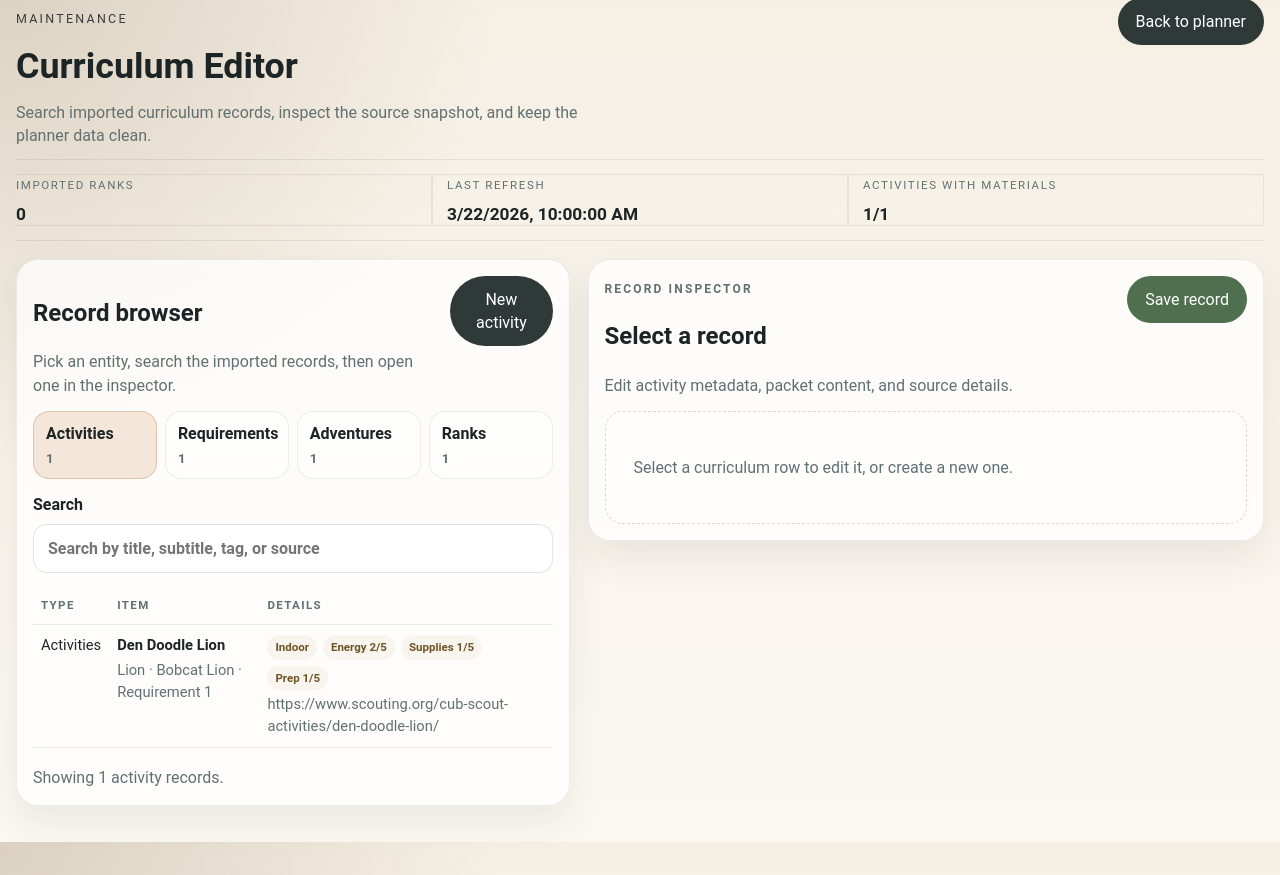
Test: AdminConfig › loads the hidden admin curriculum editor and saves an activity
Expected: the heading "Curriculum Editor" is shown, [16,45,298,87]
Expected: the heading "Record browser" is shown, [33,299,203,327]
Click the button "New activity" at (501, 311), box [450,276,552,346]
(page scrolled)
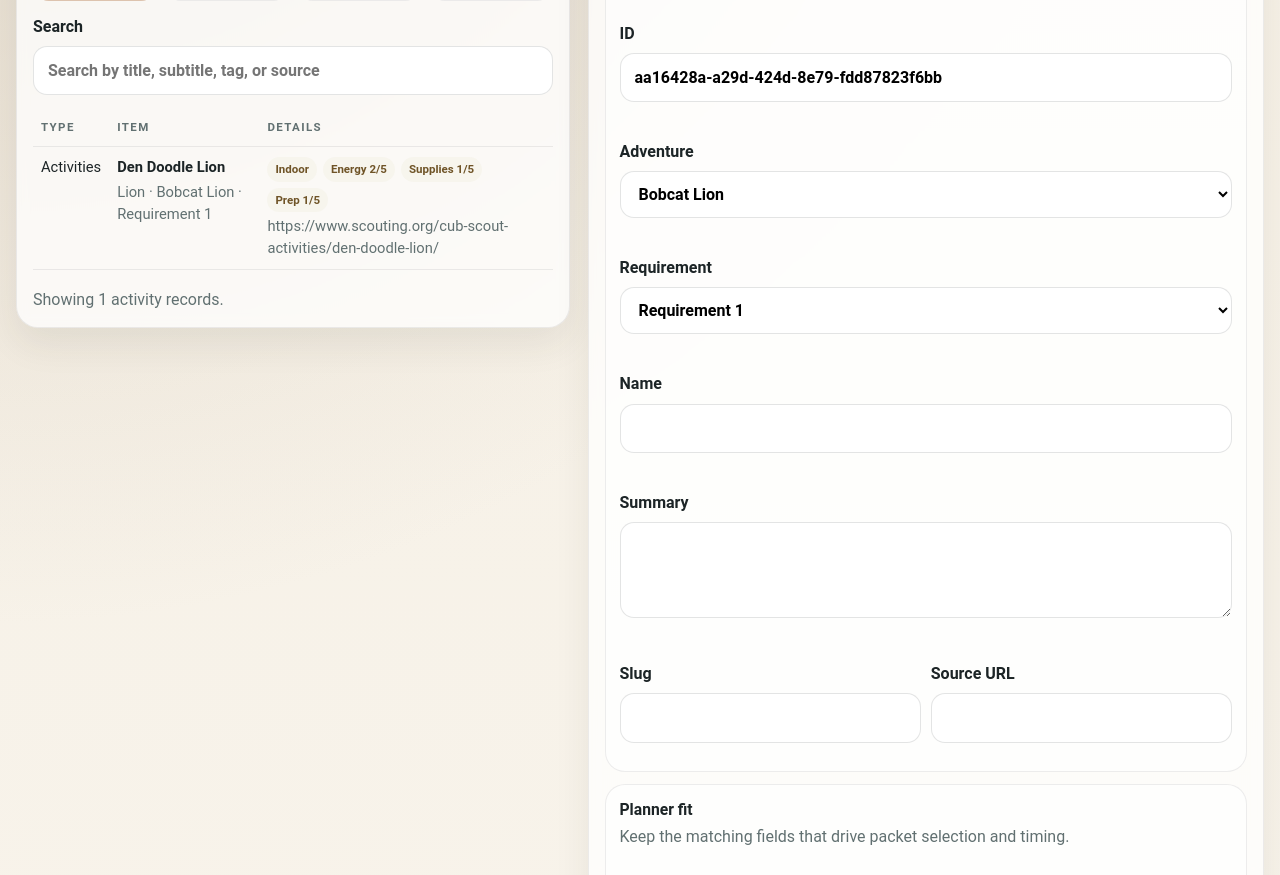
Type "Admin Edited Activity" into the field labelled "Name" at (926, 428), box [620,404,1232,453]
(page scrolled)
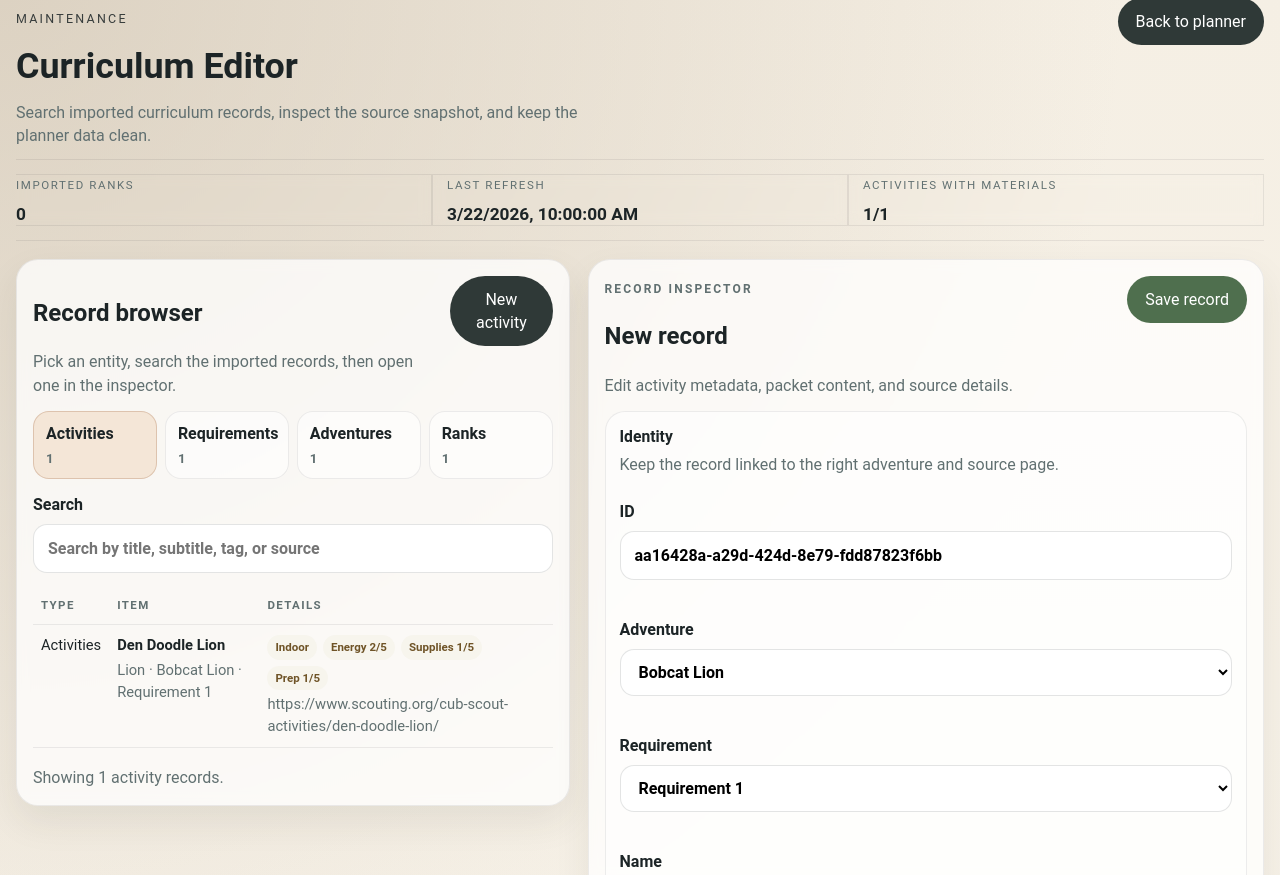
Click the button "Save record" at (1187, 299), box [1127,276,1247,323]
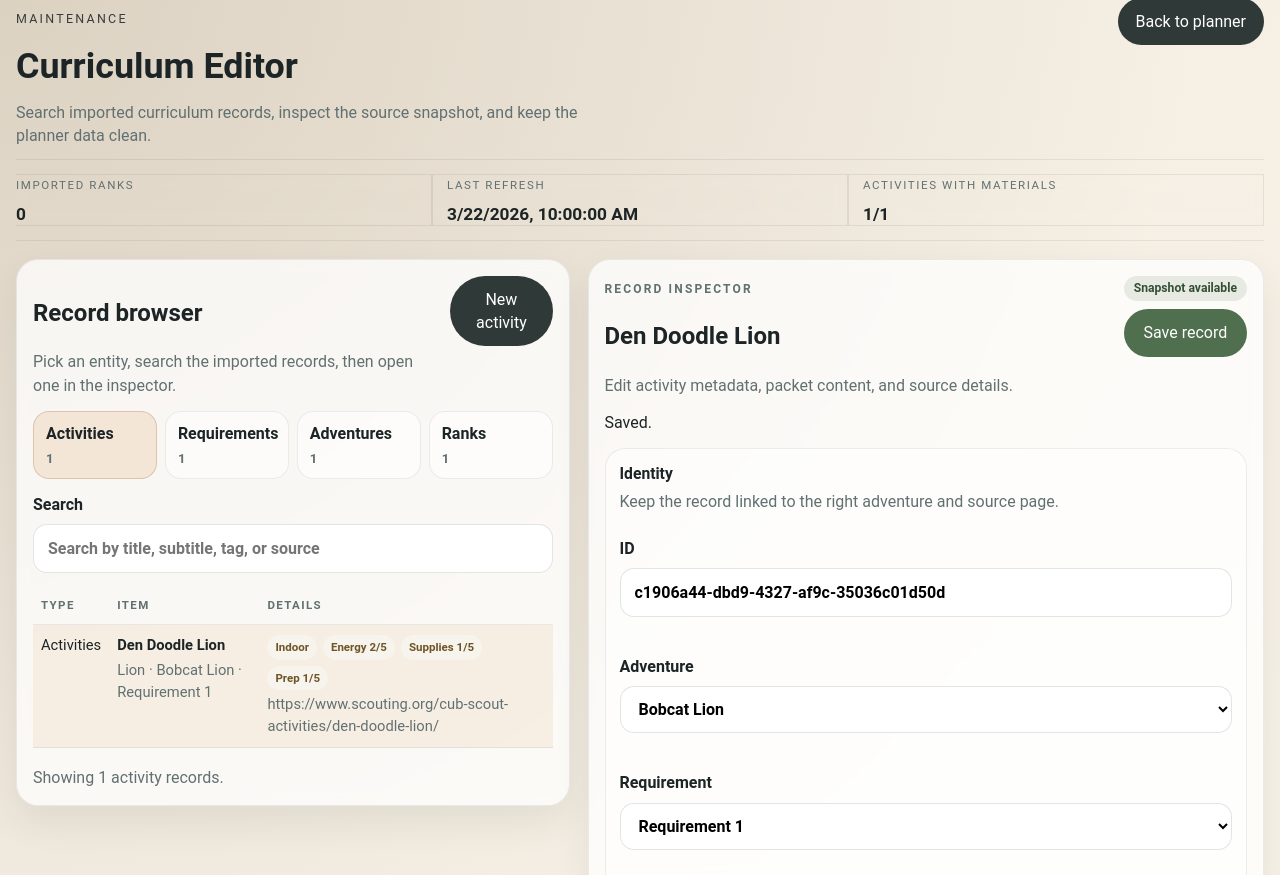
Expected: the text "Saved." is shown, [604,413,652,432]
